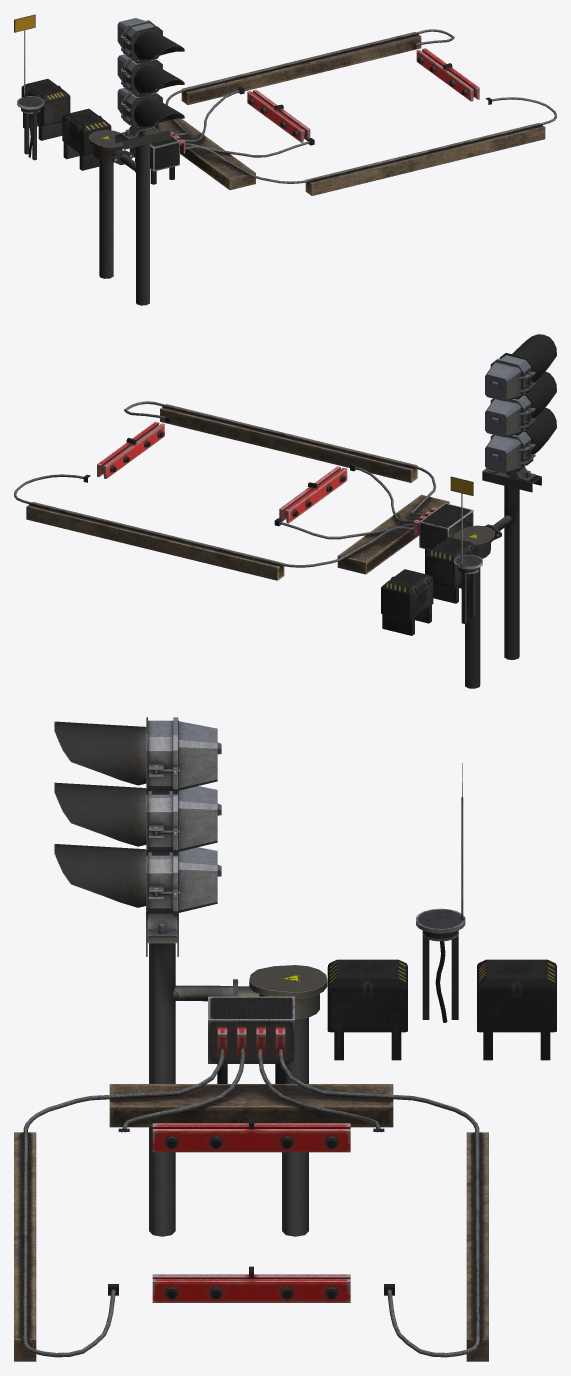
Rendered from RM_sig_P_KM1_DL_3_entr.gltf.
3 renders of one model, top to bottom at view 1: azimuth 30°, elevation 25°; view 2: azimuth 150°, elevation 25°; view 3: azimuth 270°, elevation 25°, orthographic. The views are drawn at different scales.
Visible parts, largest first — view 1: Изостык, Cylinder001, Box002; view 2: Изостык, Box002, Cylinder001; view 3: Изостык, Box002, Cylinder001.
Boxes of the visible parts, <box> form: Изостык: <box>14,14,556,195</box>; Cylinder001: <box>88,123,170,305</box>; Box002: <box>117,18,184,139</box>; Изостык: <box>14,401,482,635</box>; Box002: <box>485,334,556,481</box>; Cylinder001: <box>454,468,541,688</box>; Изостык: <box>14,763,556,1361</box>; Box002: <box>54,717,221,937</box>; Cylinder001: <box>146,906,327,1236</box>.
Size of the model in its own units: 4.06 by 2.5 by 2.43.
Materials: 2 (2 with a texture image).
